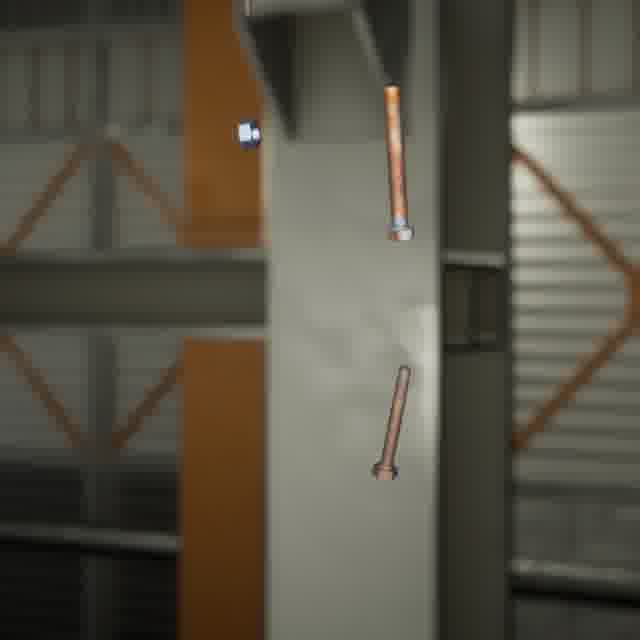bolt: (379, 80, 418, 245), (367, 360, 416, 484)
nut: (233, 113, 265, 154)
